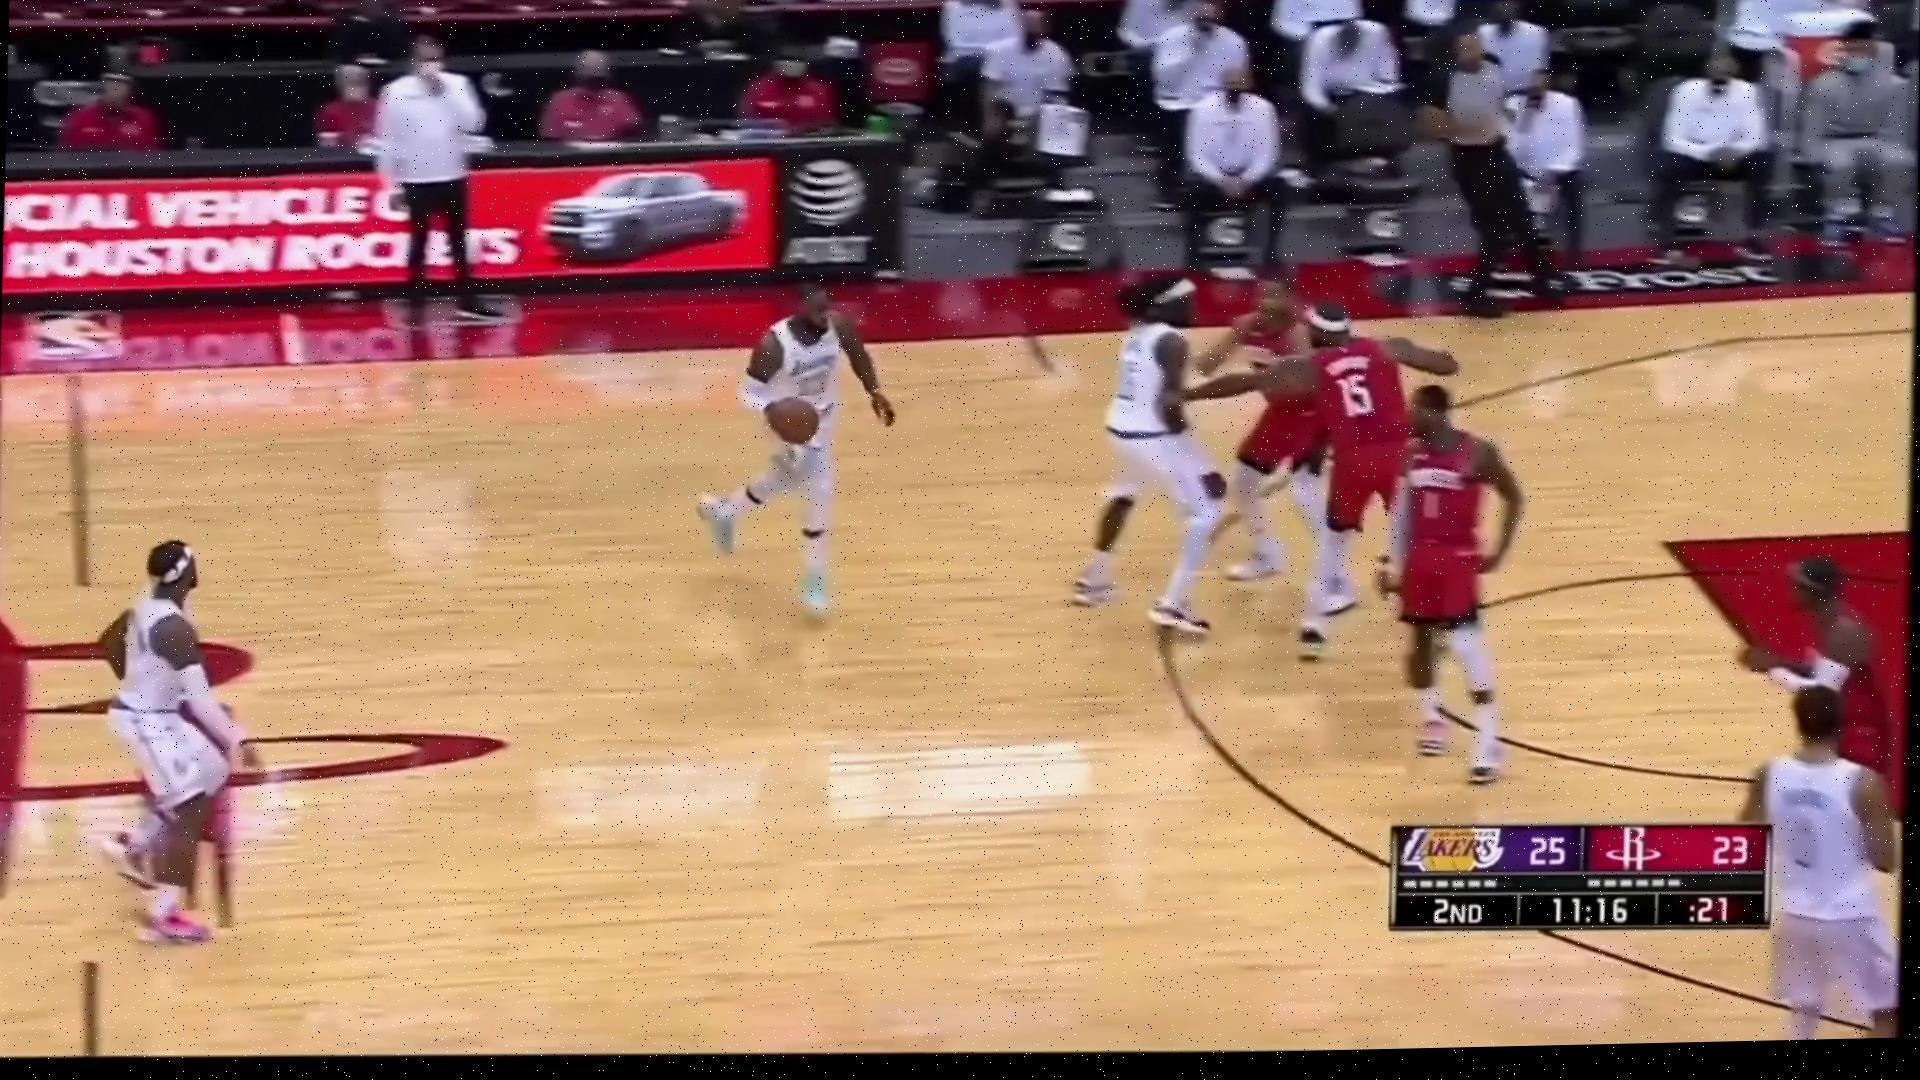no_foul: (1073, 233, 1495, 642)
